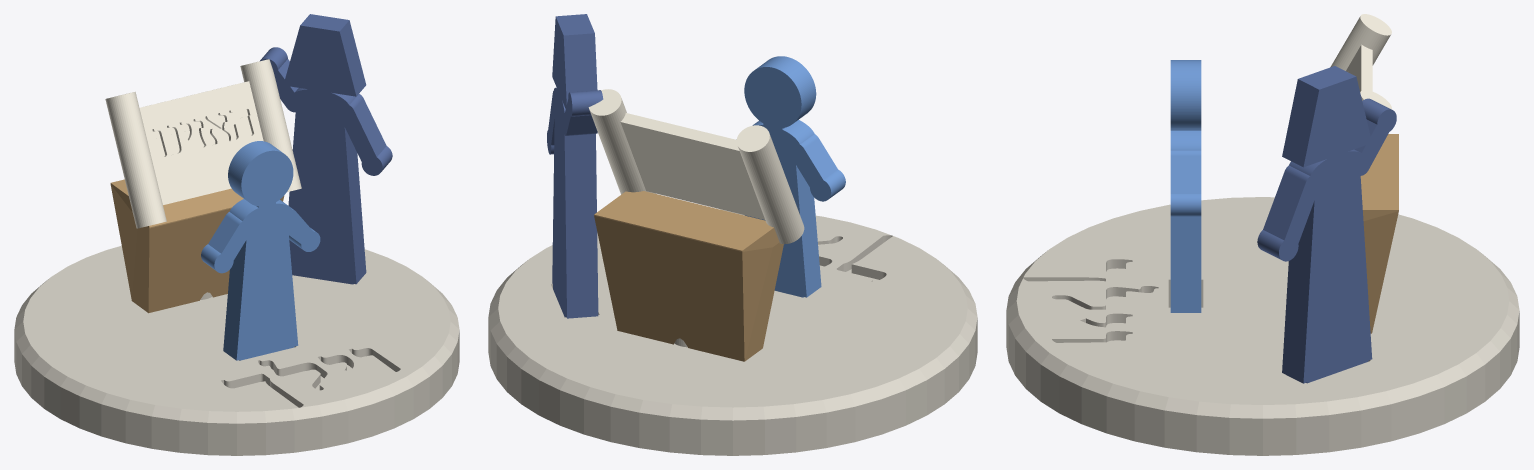
The model's file is vayelech.glb.
3 renders of one model, left to right at view 1: azimuth 30°, elevation 25°; view 2: azimuth 150°, elevation 25°; view 3: azimuth 270°, elevation 25°, orthographic. The views are drawn at different scales.
Parts seen in each view (by area): view 1: stage, moshe, scroll, listener, lectern; view 2: stage, lectern, scroll, moshe, listener; view 3: stage, moshe, listener, lectern, scroll.
Boxes of the visible parts, x1=… form: stage: x1=14, y1=246, x2=459, y2=455; moshe: x1=260, y1=14, x2=392, y2=284; scroll: x1=105, y1=59, x2=301, y2=228; listener: x1=201, y1=141, x2=320, y2=360; lectern: x1=110, y1=179, x2=284, y2=313; stage: x1=488, y1=209, x2=977, y2=455; lectern: x1=594, y1=191, x2=783, y2=361; scroll: x1=588, y1=89, x2=804, y2=244; moshe: x1=547, y1=14, x2=603, y2=318; listener: x1=744, y1=56, x2=845, y2=297; stage: x1=1006, y1=197, x2=1519, y2=455; moshe: x1=1257, y1=66, x2=1396, y2=383; listener: x1=1170, y1=60, x2=1201, y2=312; lectern: x1=1360, y1=134, x2=1398, y2=333; scroll: x1=1330, y1=14, x2=1391, y2=109.
Size of the model in its own units: 40 by 28.8 by 40.
